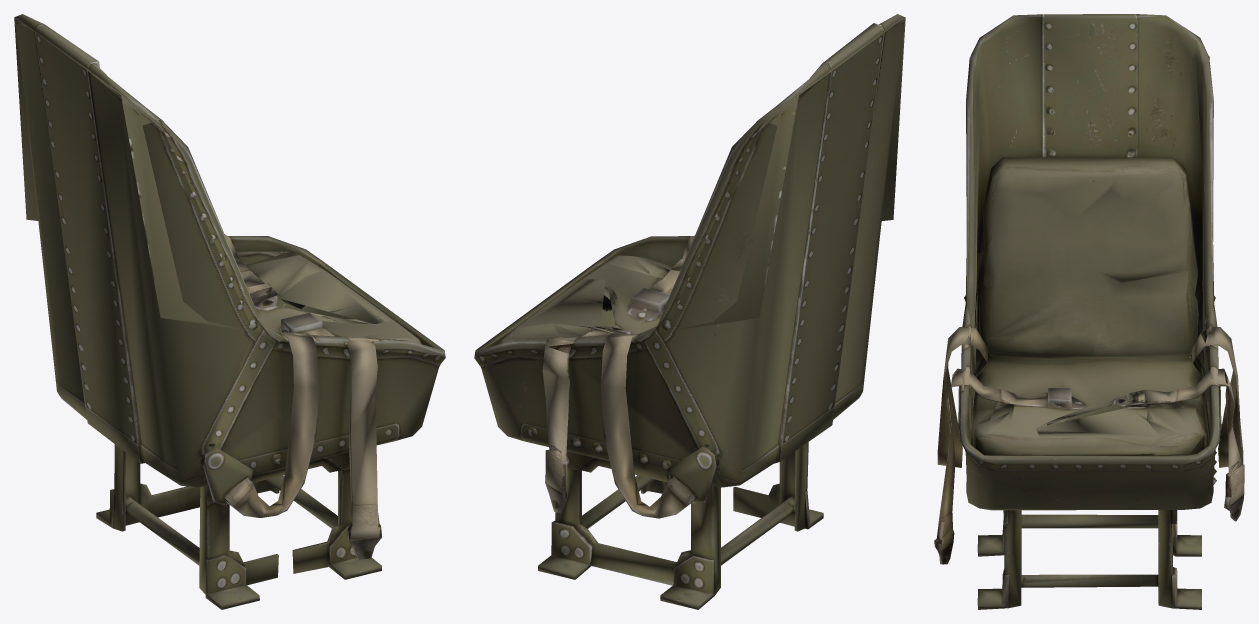
Rendered from seat.glb.
3 renders of one model, left to right at view 1: azimuth 30°, elevation 25°; view 2: azimuth 150°, elevation 25°; view 3: azimuth 270°, elevation 25°, orthographic. The views are drawn at different scales.
Visible parts, largest first — view 1: tripo_node_d427ee23-c772-4483-9182-6663a; view 2: tripo_node_d427ee23-c772-4483-9182-6663a; view 3: tripo_node_d427ee23-c772-4483-9182-6663a.
Part boxes in pixels (bbox=[...]): tripo_node_d427ee23-c772-4483-9182-6663a: bbox=[14, 14, 445, 609]; tripo_node_d427ee23-c772-4483-9182-6663a: bbox=[474, 14, 905, 609]; tripo_node_d427ee23-c772-4483-9182-6663a: bbox=[934, 14, 1244, 609].
Size of the model in its own units: 0.6225 by 0.9969 by 0.5784.
Materials: 1 (1 with a texture image).
